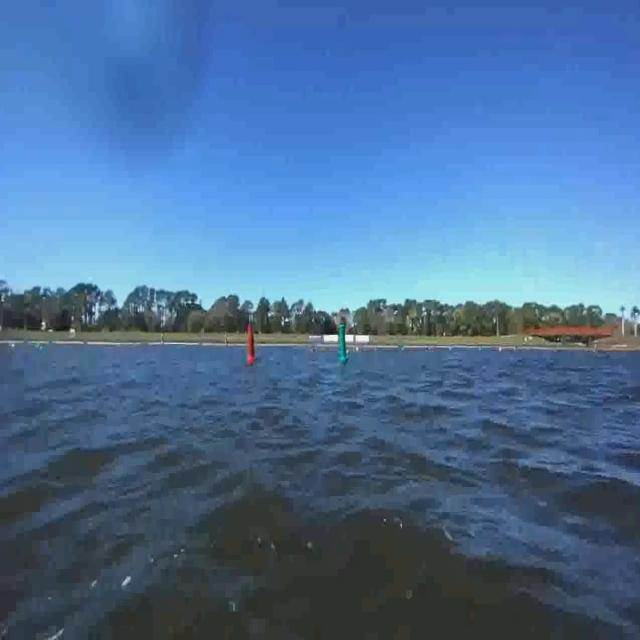green-column-buoy: (334, 306, 354, 366)
red-column-buoy: (239, 326, 263, 374)
